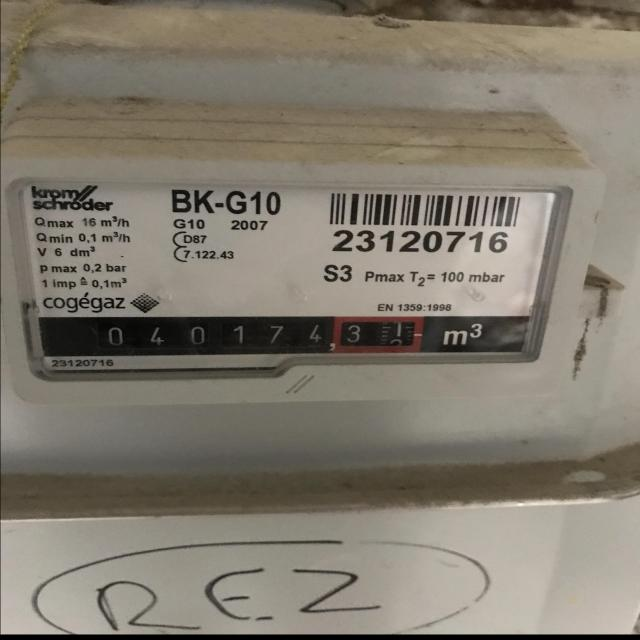gaz_meter: (12, 178, 550, 369)
indication: (39, 315, 424, 356)
